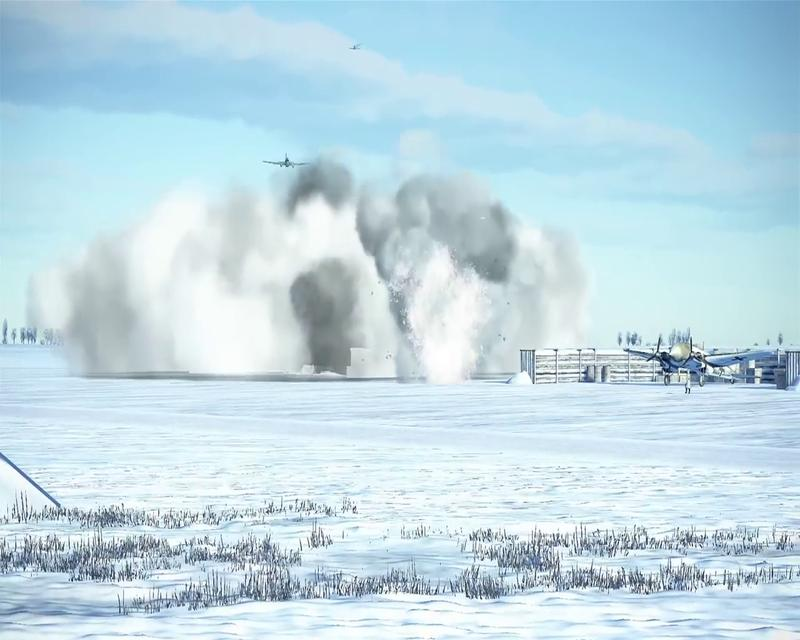UAV: (263, 153, 310, 169)
